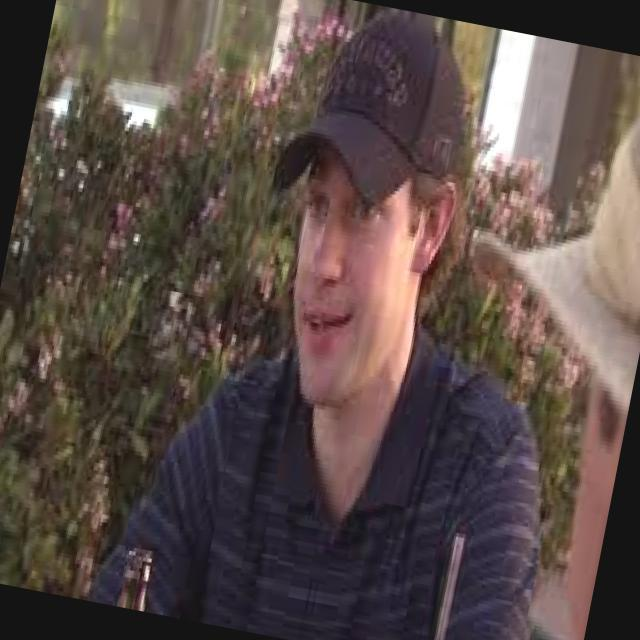cap: (255, 0, 493, 239)
